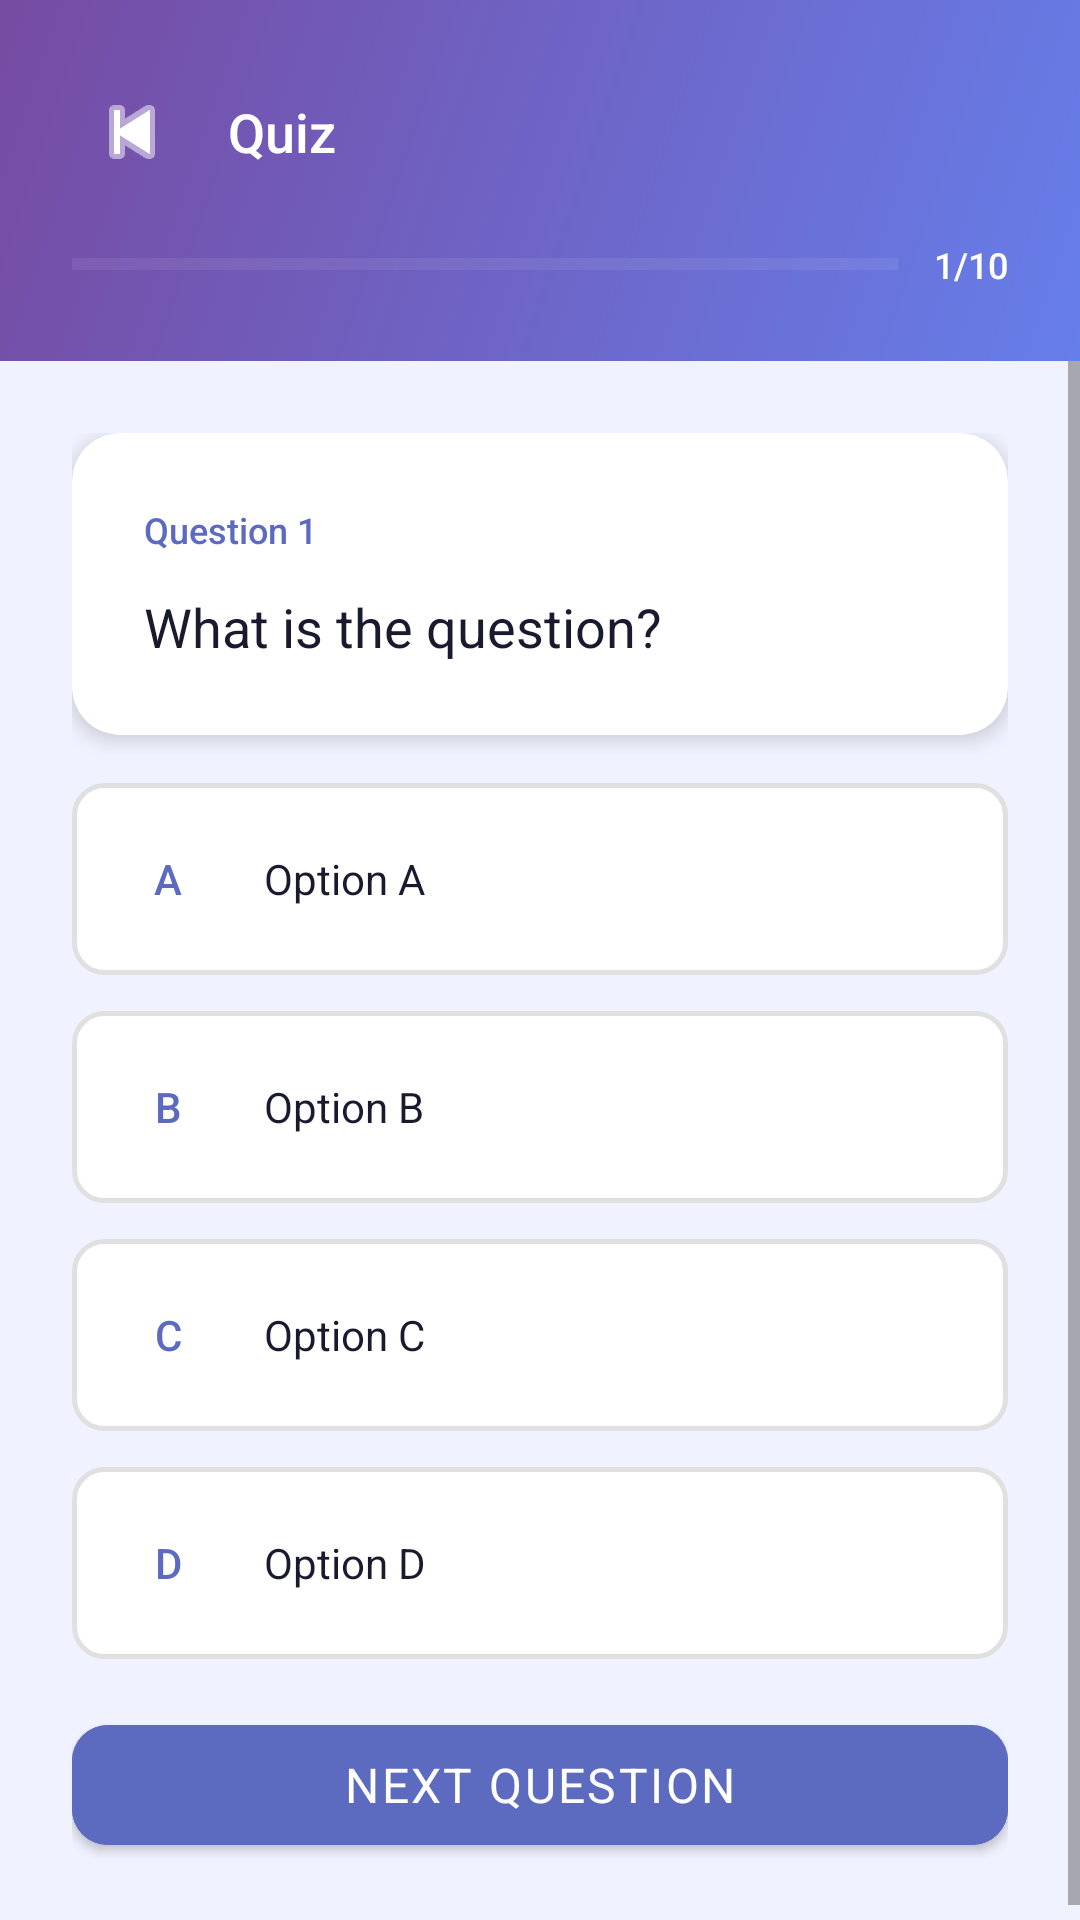

Icon click points for this 1080w x 1920h phone screenshot, format (x=x, y=y):
Back: (x=132, y=132)
